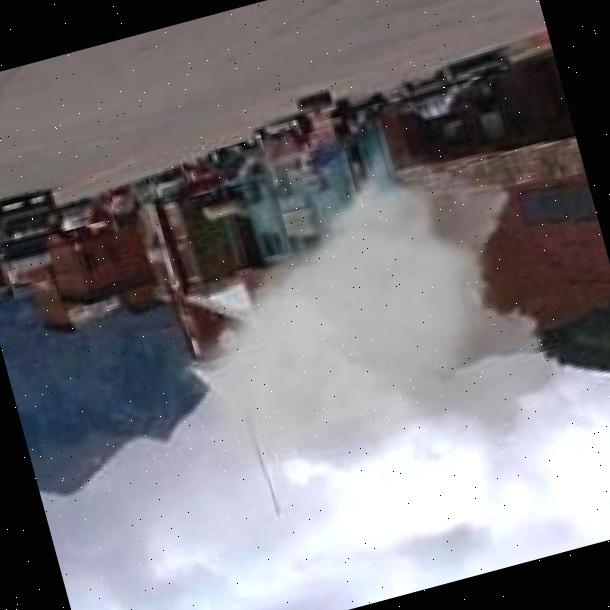smoke: (114, 64, 582, 529)
